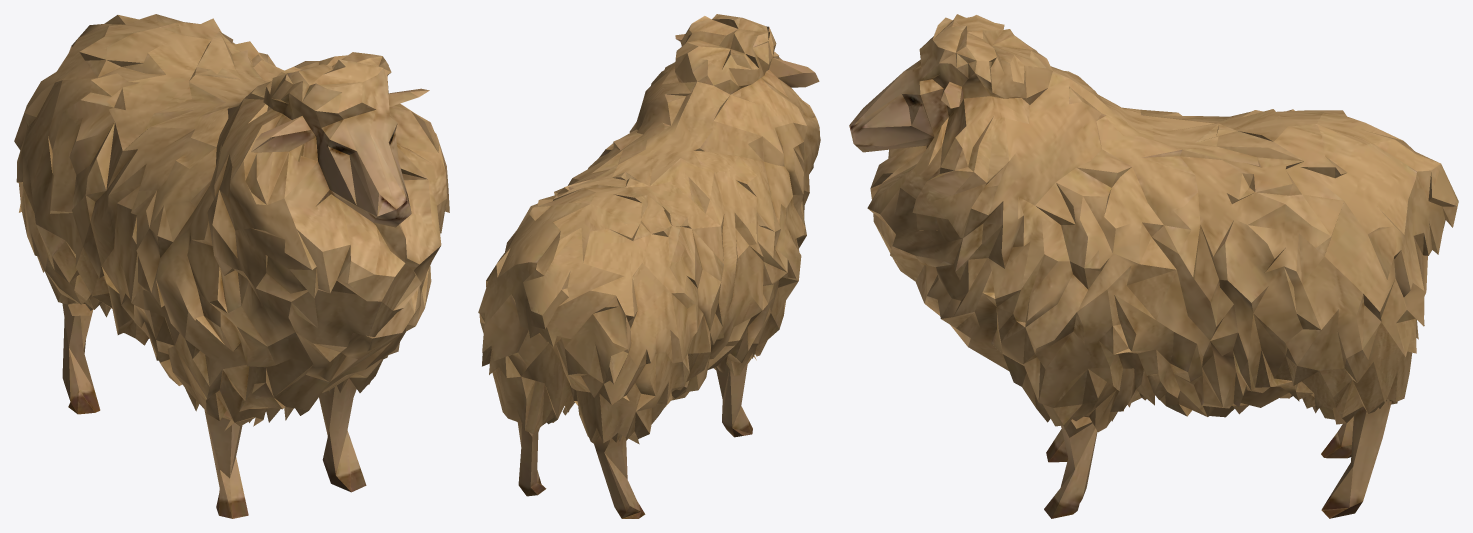
File: sheep.glb
3 renders of one model, left to right at view 1: azimuth 30°, elevation 25°; view 2: azimuth 150°, elevation 25°; view 3: azimuth 270°, elevation 25°, orthographic. The views are drawn at different scales.
Visible parts, largest first — view 1: sheep; view 2: sheep; view 3: sheep.
Part boxes in pixels (<box>): sheep: <box>14,14,449,518</box>; sheep: <box>478,14,820,518</box>; sheep: <box>849,14,1458,518</box>.
Bounding box in the file's own units: 0.5897 × 1.05 × 1.26.
1 material, 1 textured.
